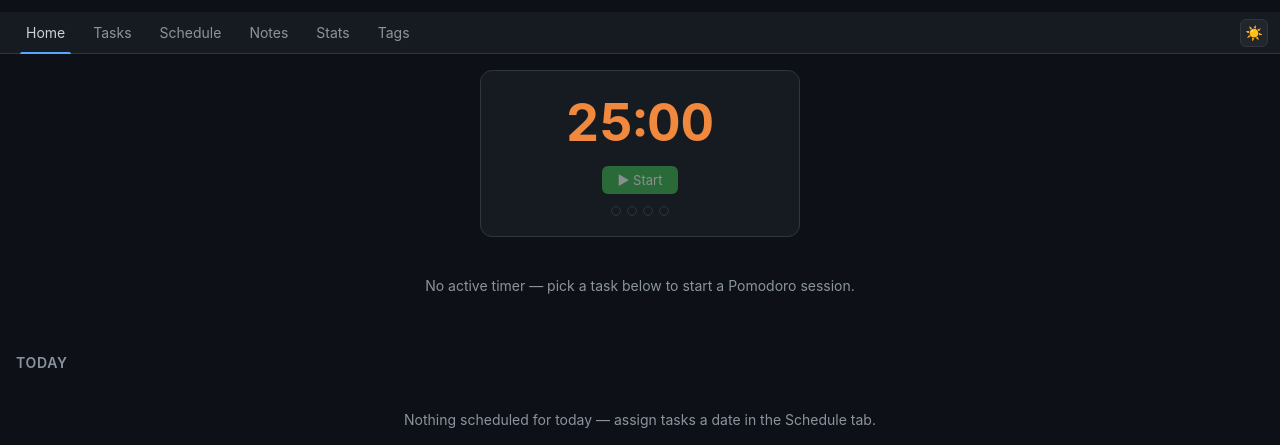
Test case: switches to Tasks tab on click
Click the button "Tasks" at (112, 32), box [79,12,146,53]
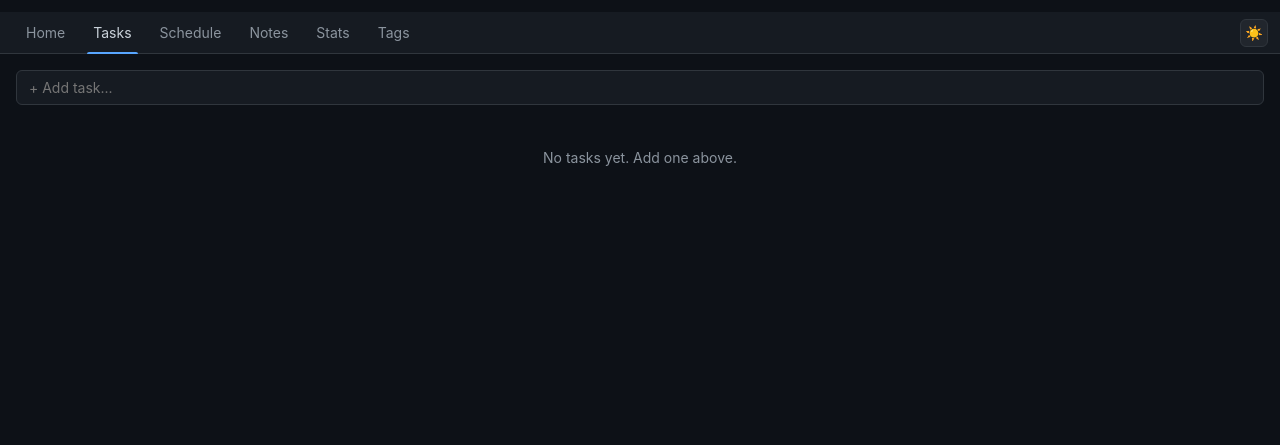
Result: the field with placeholder "+ Add task..." is shown at [16,70,1264,105]
